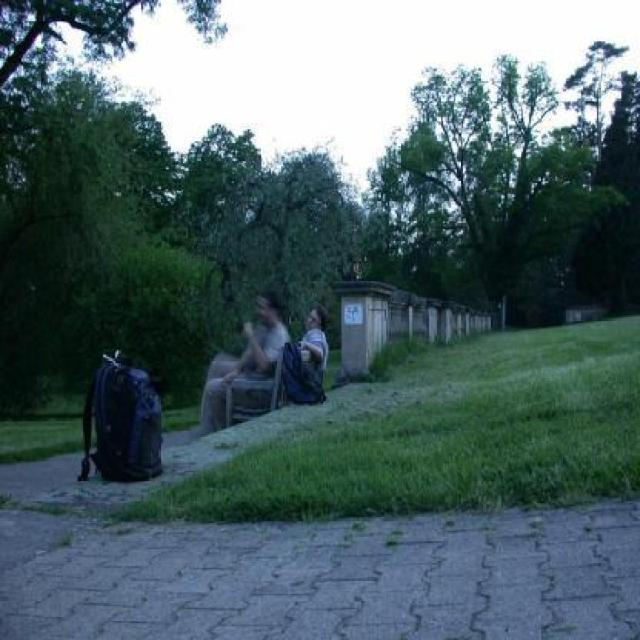backpack: (80, 349, 166, 485), (280, 340, 325, 408)
